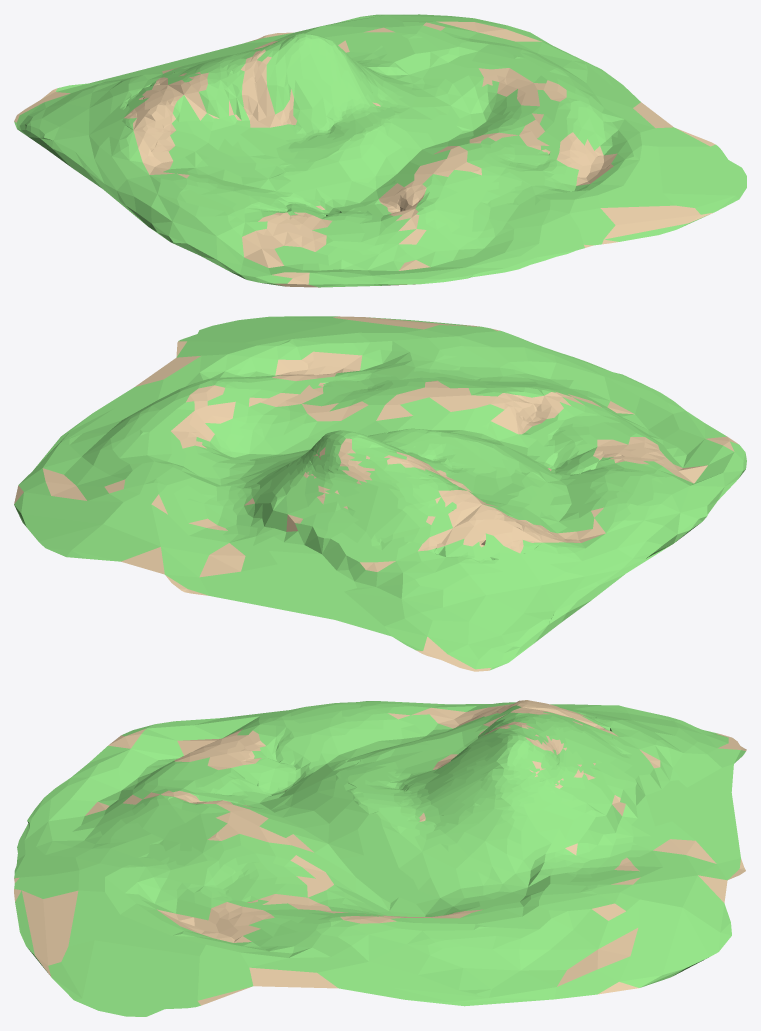
Rendered from world.glb.
3 renders of one model, top to bottom at view 1: azimuth 30°, elevation 25°; view 2: azimuth 150°, elevation 25°; view 3: azimuth 270°, elevation 25°, orthographic. The views are drawn at different scales.
Parts seen in each view (by area): view 1: Landscape.001; view 2: Landscape.001; view 3: Landscape.001.
Part boxes in pixels (x1,y1,x2,y2): Landscape.001: [14, 14, 746, 287]; Landscape.001: [14, 316, 746, 671]; Landscape.001: [14, 700, 746, 1016].
Size of the model in its own units: 18.99 by 3.46 by 19.52.
